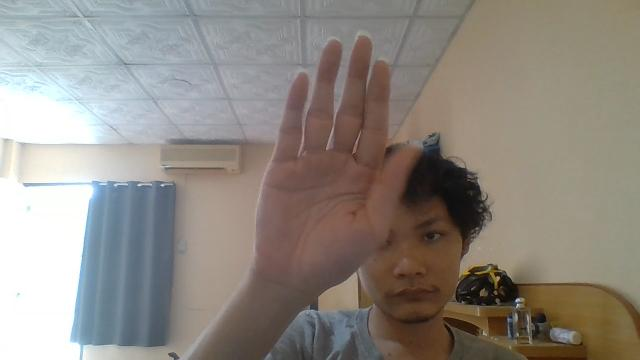Stop: (251, 33, 421, 300)
